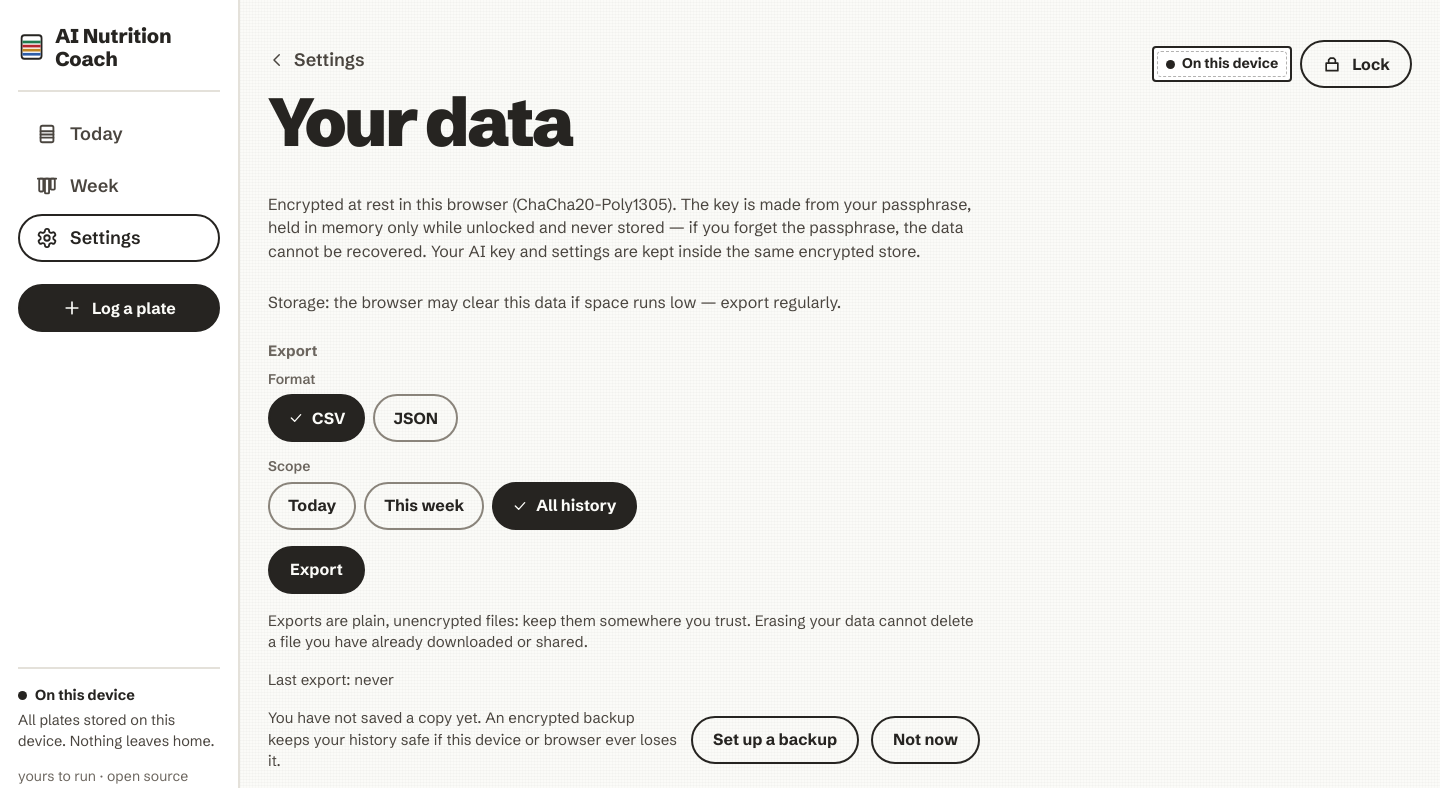
Test: YourDataScreen: export › exports JSON as the {"plates": [...]} envelope
Expected: the heading "Your data" is shown, 268,92 -> 572,153
Click the radio button labelled "JSON". click: (416, 418)
box: 373,394 -> 458,442
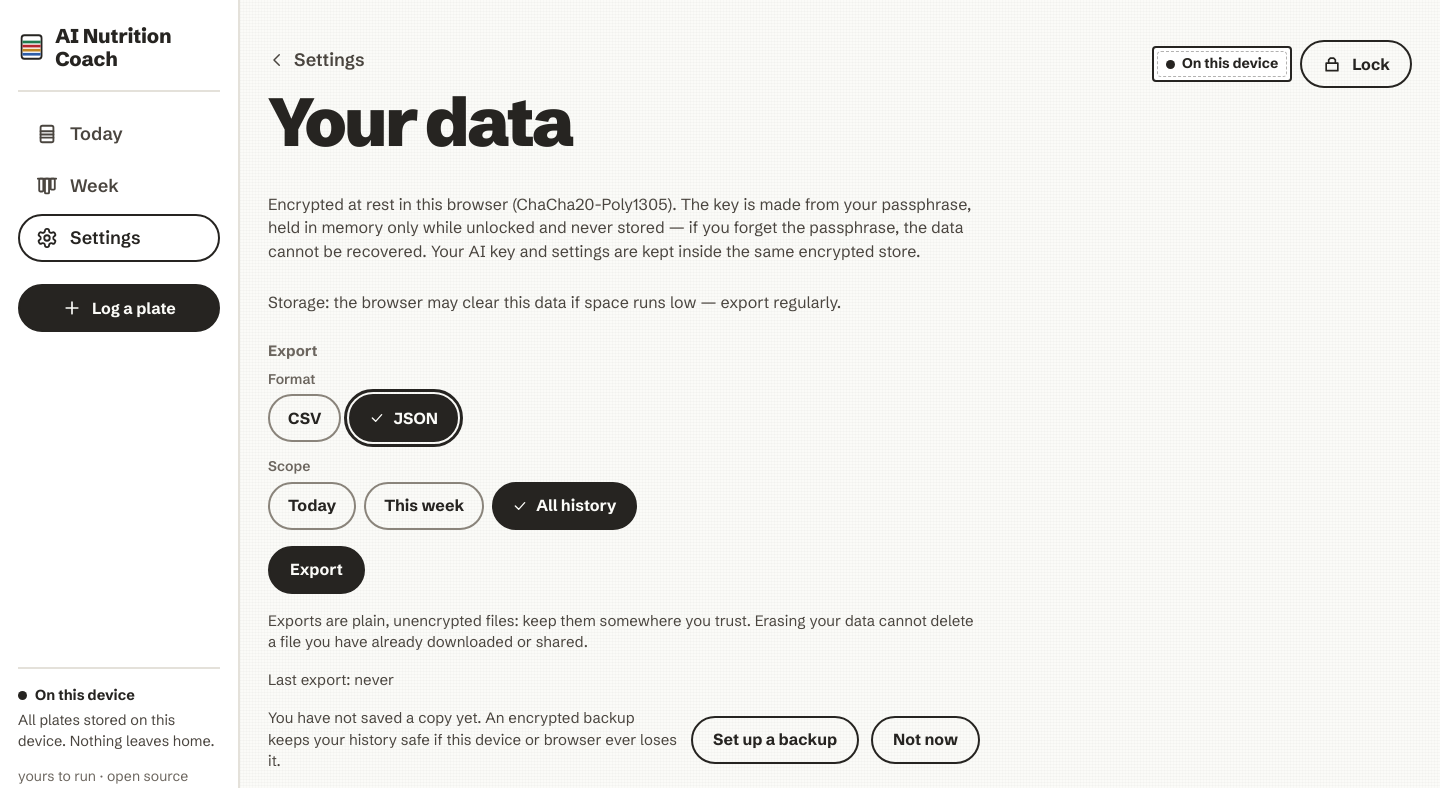
Click the button "Export". click: (316, 570)
box: 268,546 -> 365,594
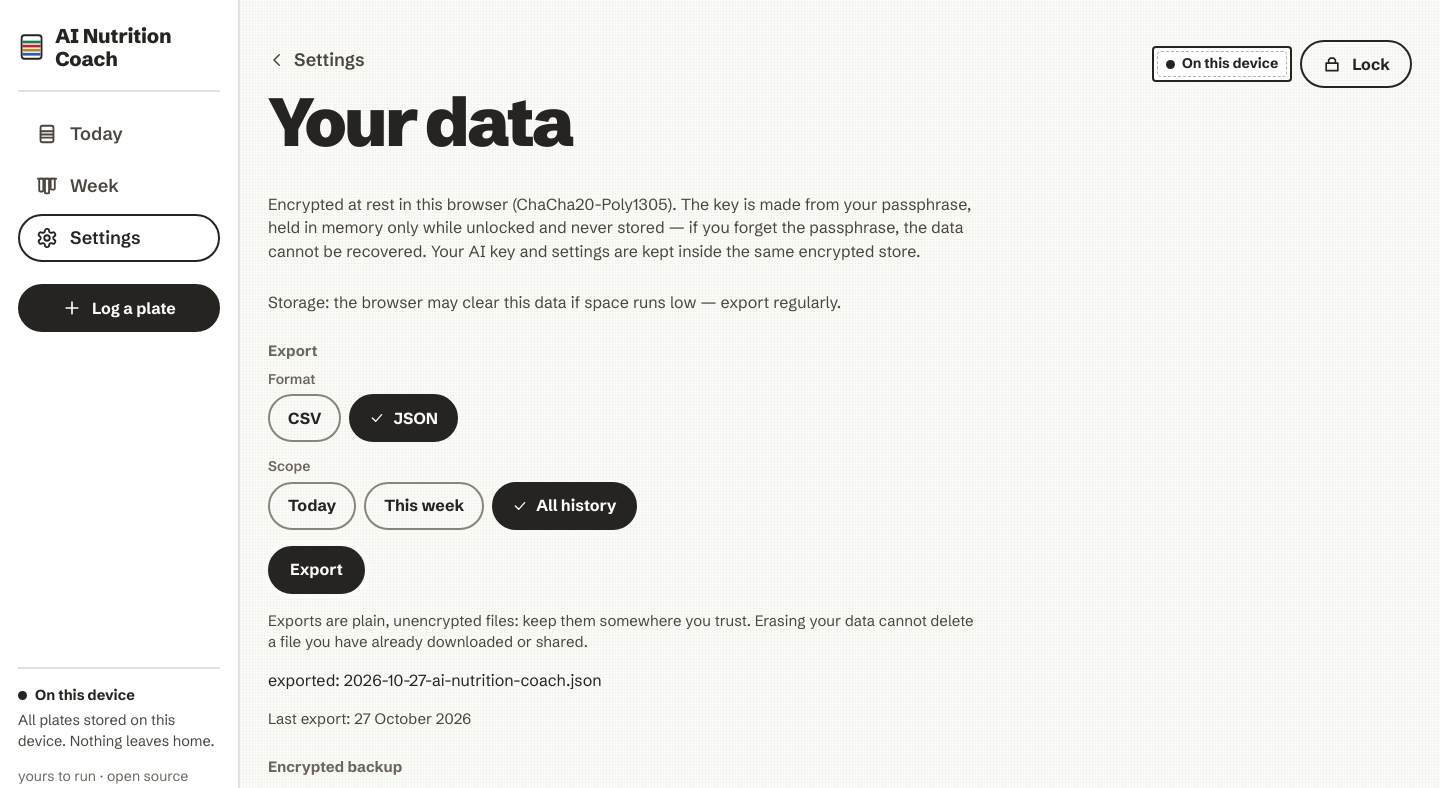
Expected: the text "exported: 2026-10-27-ai-nutrition-coach.json" is shown, 268,670 -> 602,690
